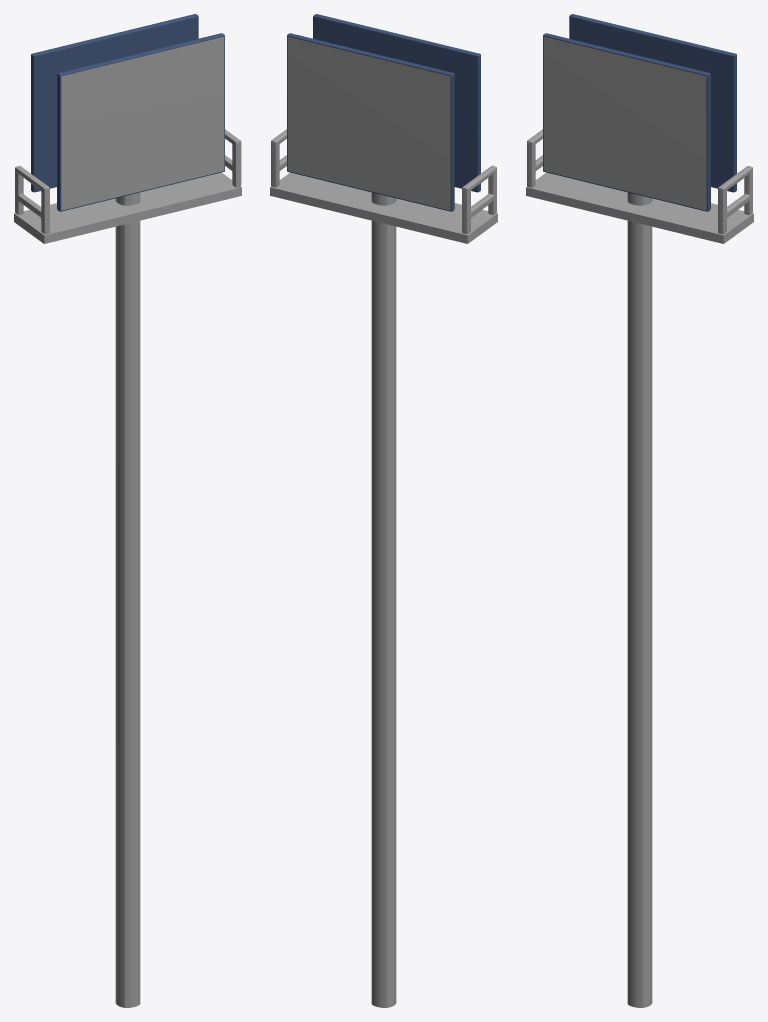
File: SM_BillBoard.fbx
The picture shows the model from 3 angles, left to right: view 1: azimuth 30°, elevation 25°; view 2: azimuth 150°, elevation 25°; view 3: azimuth 330°, elevation 25°; orthographic projection.
Visible parts, largest first — view 1: SM_Billboard; view 2: SM_Billboard; view 3: SM_Billboard.
Part boxes in pixels (x1,y1,x2,y2): SM_Billboard: (14, 14, 241, 1007); SM_Billboard: (270, 14, 497, 1007); SM_Billboard: (526, 14, 753, 1007).
Size of the model in its own units: 820 by 3801 by 216.
